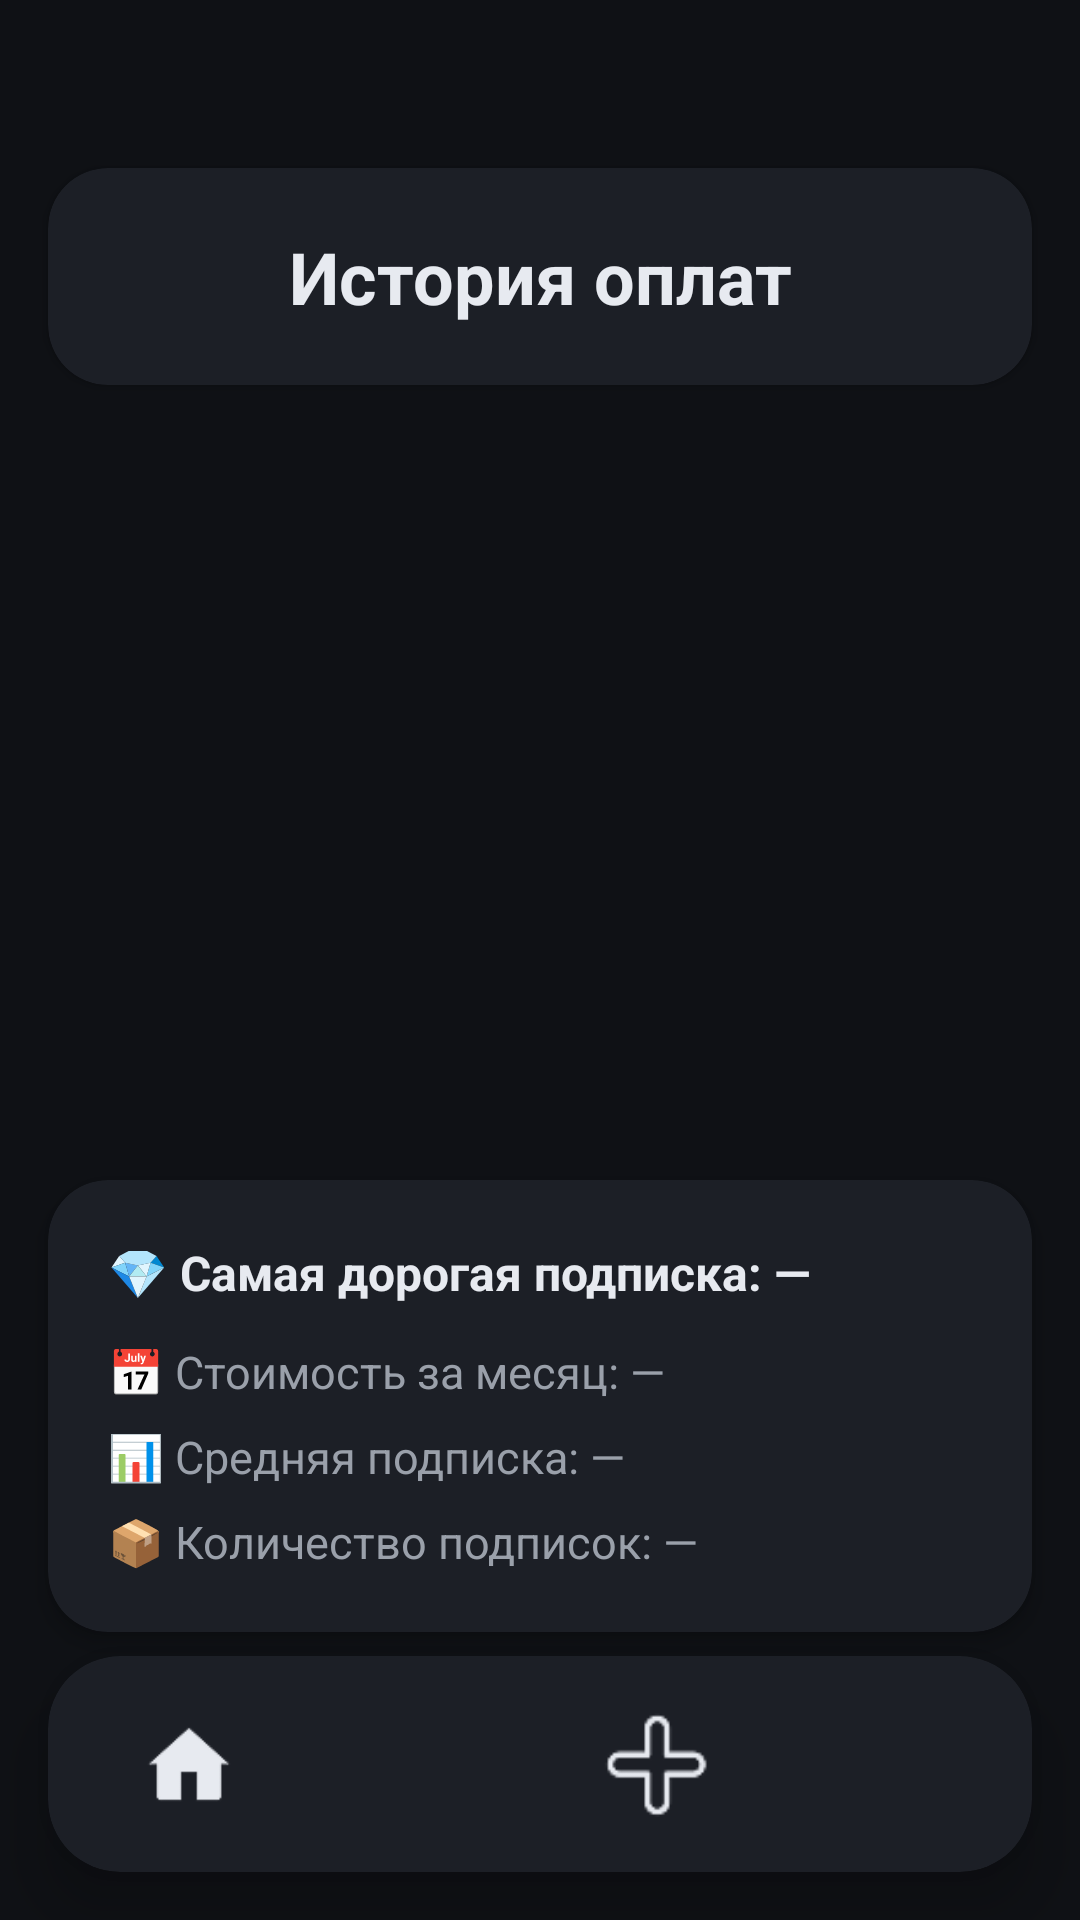

Named icons in this screenshot (1080×1920) and their centers, (x=x, y=y):
Добавить подписку: (x=657, y=1765)
Дом: (x=189, y=1764)
